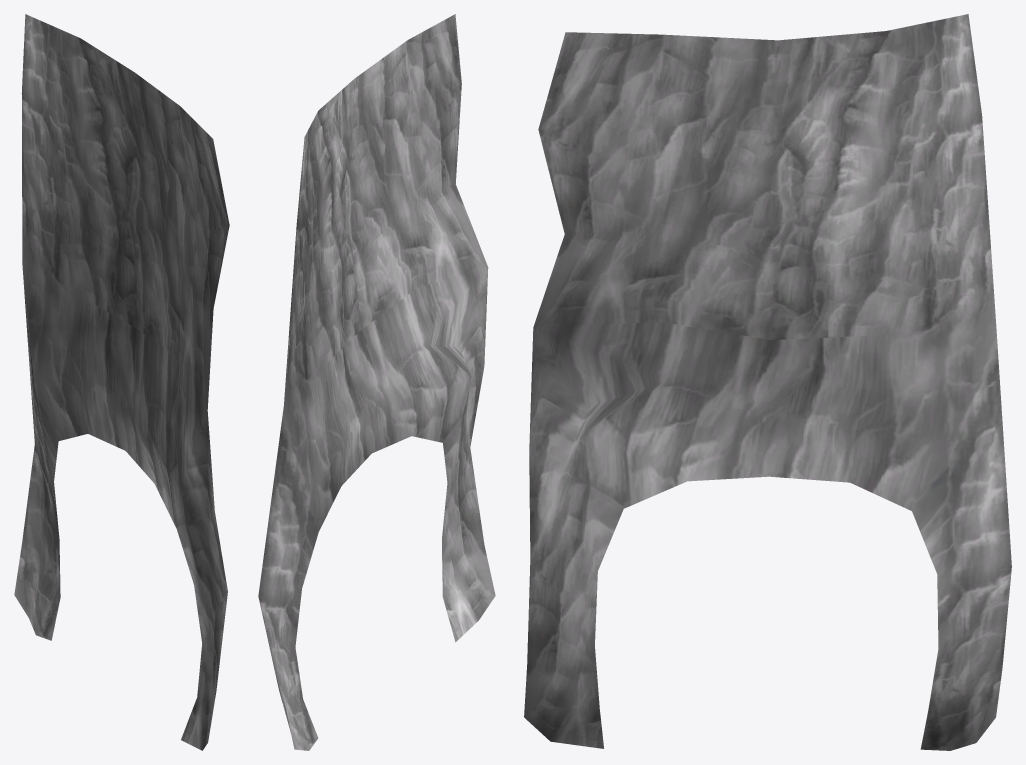
File: SWORDLIGHT20_PS-AREA03_208.fbx
3 views of the same model, side by side, from view 1: azimuth 30°, elevation 25°; view 2: azimuth 150°, elevation 25°; view 3: azimuth 270°, elevation 25° (orthographic). The views are drawn at different scales.
Visible parts, largest first — view 1: SWORDLIGHT20_PS-AREA03_208; view 2: SWORDLIGHT20_PS-AREA03_208; view 3: SWORDLIGHT20_PS-AREA03_208.
Boxes of the visible parts, x1=… form: SWORDLIGHT20_PS-AREA03_208: x1=14, y1=14, x2=229, y2=750; SWORDLIGHT20_PS-AREA03_208: x1=258, y1=14, x2=495, y2=750; SWORDLIGHT20_PS-AREA03_208: x1=524, y1=14, x2=1011, y2=750.
Bounding box in the file's own units: 11979 × 169574 × 101984.
1 material, 1 textured.
